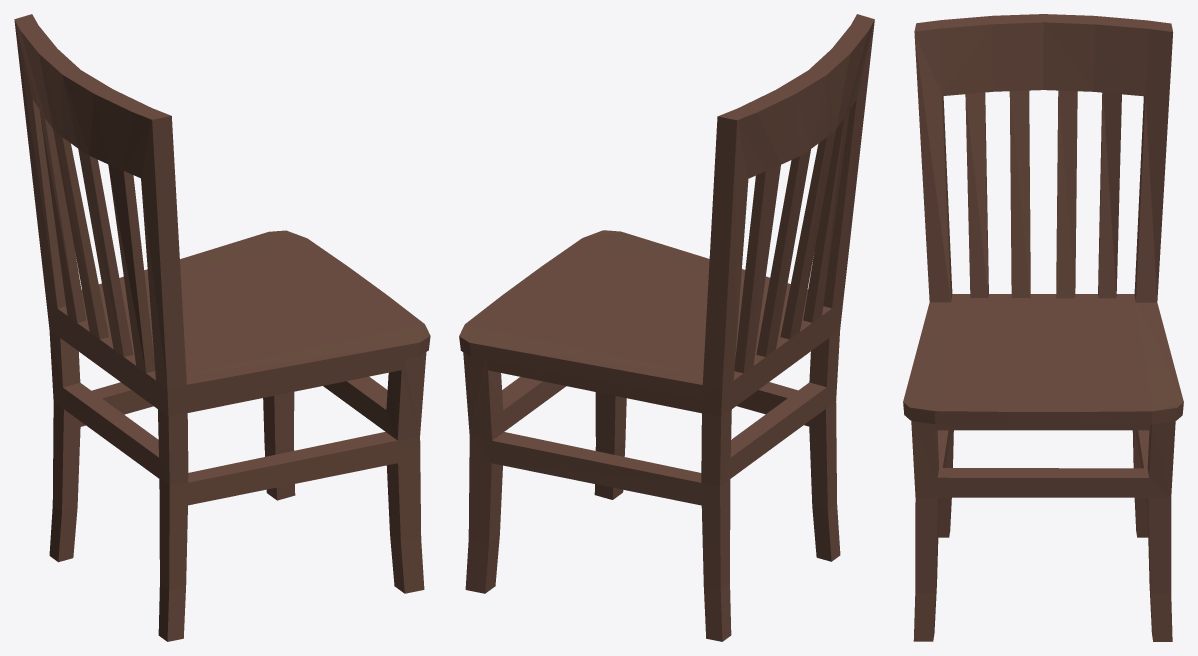
Rendered from WoodChair.gltf.
3 renders of one model, left to right at view 1: azimuth 30°, elevation 25°; view 2: azimuth 150°, elevation 25°; view 3: azimuth 270°, elevation 25°, orthographic. The views are drawn at different scales.
Parts seen in each view (by area): view 1: node-0; view 2: node-0; view 3: node-0.
Boxes of the visible parts, x1=… form: node-0: x1=14, y1=14, x2=430, y2=641; node-0: x1=459, y1=14, x2=874, y2=641; node-0: x1=903, y1=14, x2=1183, y2=641.
Size of the model in its own units: 0.7524 by 1.26 by 0.6472.
